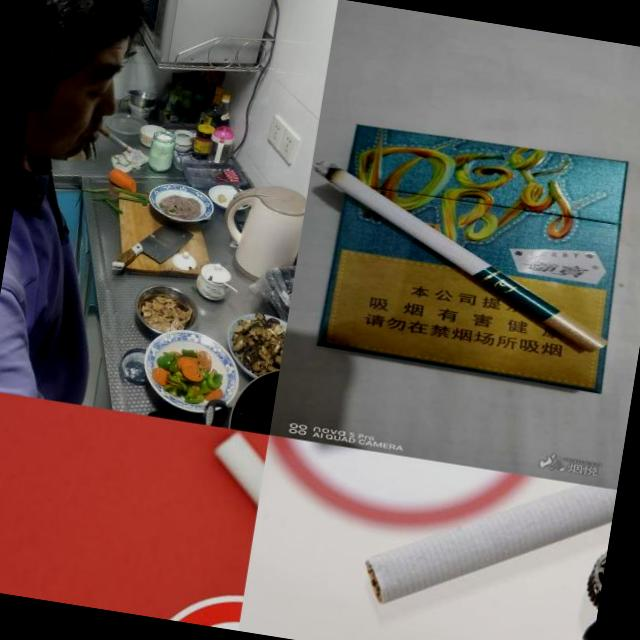cigarette: (292, 158, 632, 356), (355, 452, 617, 640), (96, 126, 134, 154)
